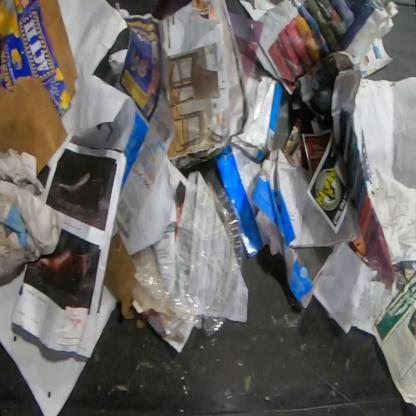cardboard: (0, 0, 79, 178), (228, 73, 284, 163), (281, 236, 344, 310), (103, 230, 149, 330), (359, 37, 395, 78)
rigid_plastic: (130, 178, 246, 337)
